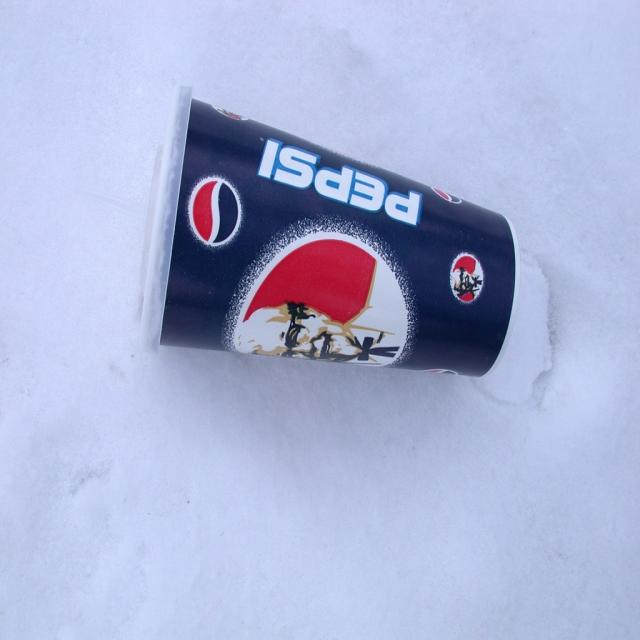pepsi: (185, 169, 247, 251)
